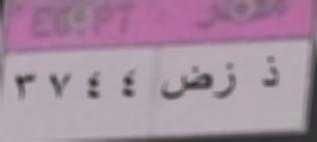3: (11, 68, 40, 108)
4: (113, 64, 145, 106), (83, 65, 105, 108)
7: (47, 67, 78, 107)
daad: (159, 62, 213, 106)
zaal: (256, 53, 282, 94)
zay: (215, 58, 240, 105)
